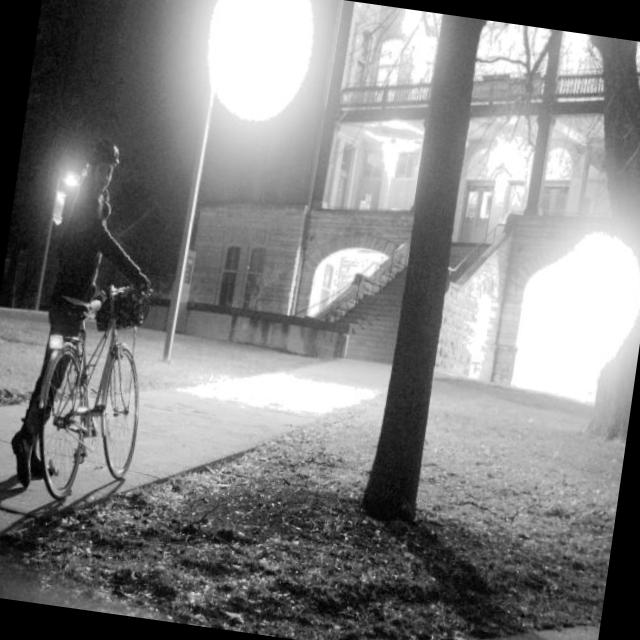Bicycle: (15, 251, 172, 525)
Person: (0, 108, 170, 545)
